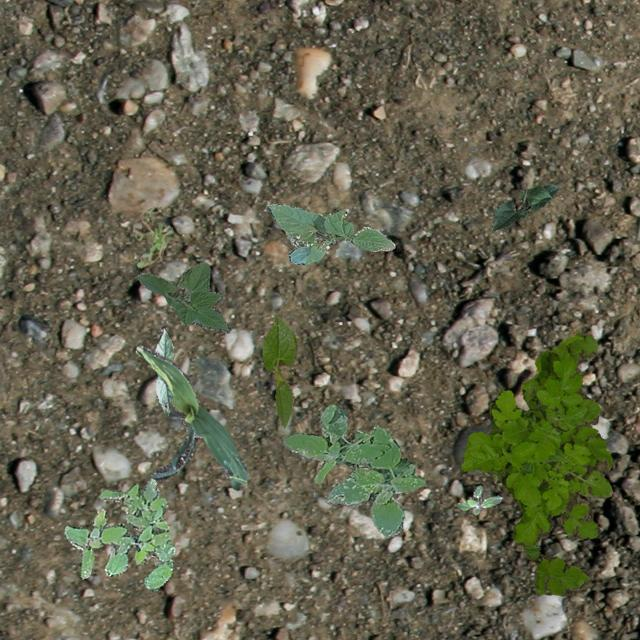crop: (134, 344, 246, 488), (264, 202, 394, 264), (136, 262, 230, 332), (260, 316, 296, 428), (490, 183, 558, 230), (154, 328, 174, 414)
weed: (459, 332, 612, 594), (282, 404, 424, 534), (64, 478, 174, 590), (132, 206, 178, 266), (456, 484, 500, 514)
